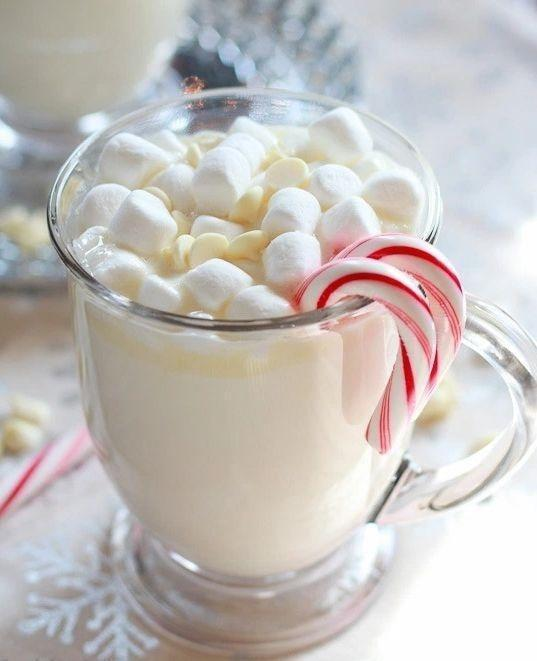glass-mug: (51, 84, 486, 652)
